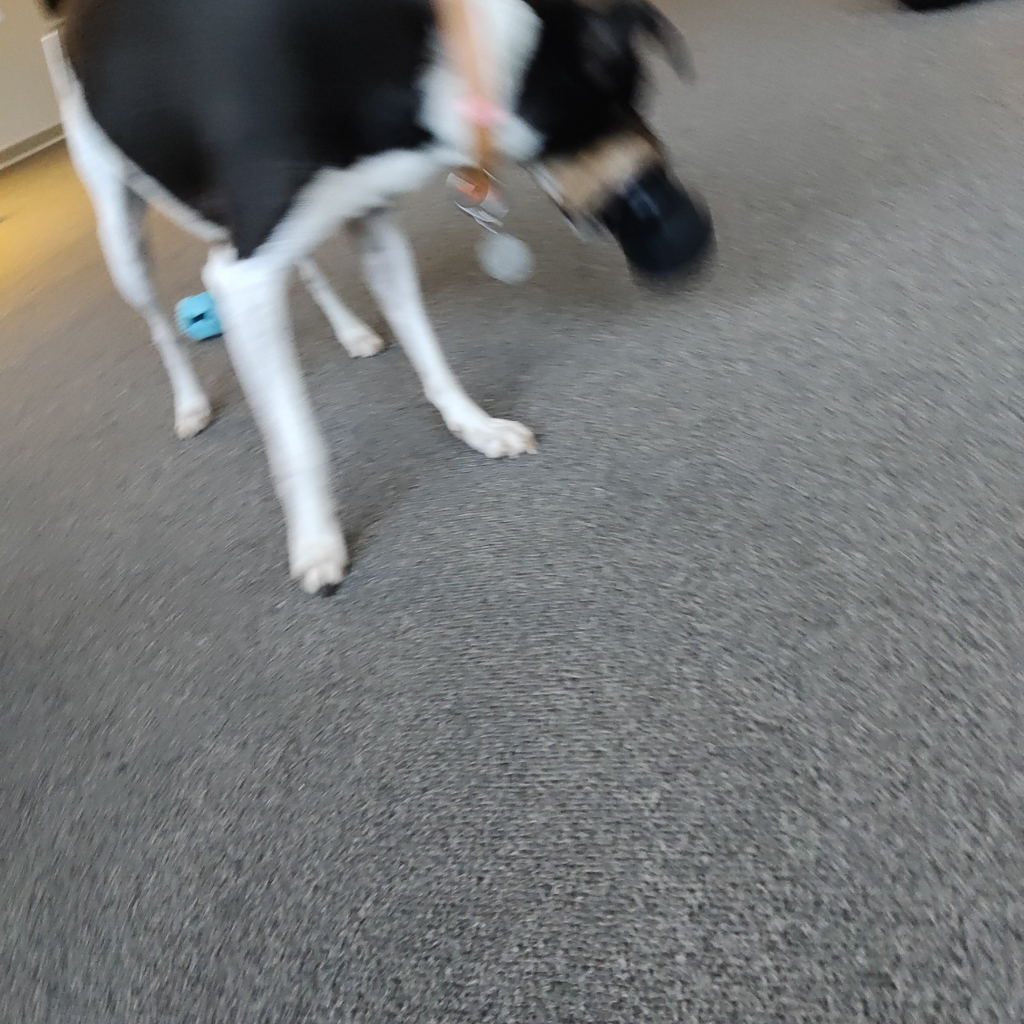Dog: (19, 0, 740, 612)
